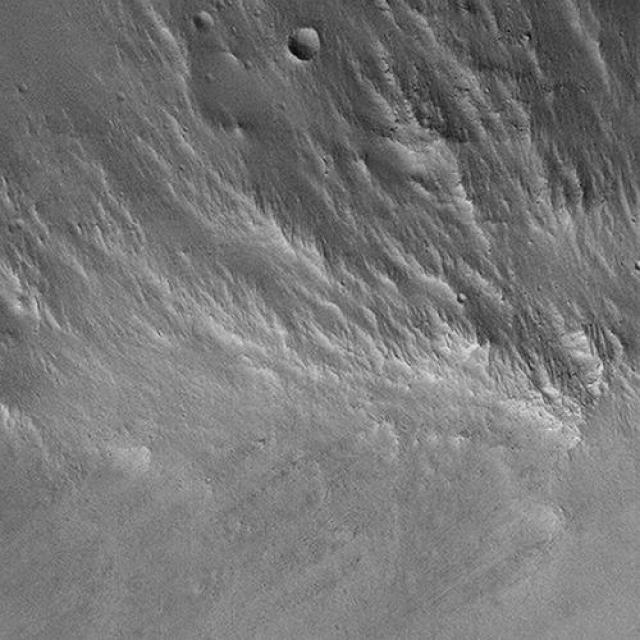crater: (271, 18, 333, 70), (0, 142, 33, 204), (185, 1, 219, 38), (4, 77, 40, 102), (442, 288, 481, 311), (197, 70, 222, 95), (110, 87, 132, 113), (130, 0, 170, 14), (623, 253, 640, 279), (250, 0, 274, 12), (402, 0, 430, 9), (271, 0, 302, 8)
